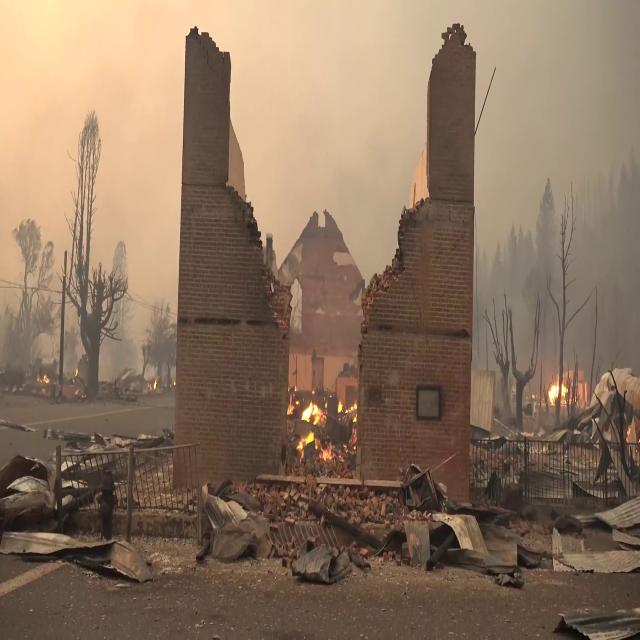smoke: (302, 16, 401, 156), (0, 0, 85, 137)
